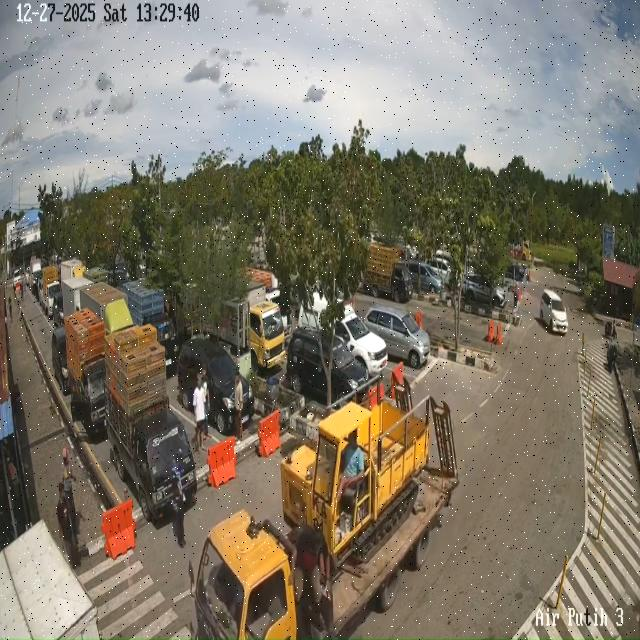Golongan IVA: (298, 292, 388, 376), (178, 338, 255, 435), (286, 328, 369, 402), (364, 305, 430, 369), (463, 274, 506, 308), (539, 289, 568, 335), (51, 326, 69, 395), (408, 261, 443, 293)
Golongan IVB: (104, 389, 205, 526), (66, 353, 116, 446), (363, 243, 413, 303)
Golongan VB: (189, 398, 458, 638), (205, 281, 286, 370)
